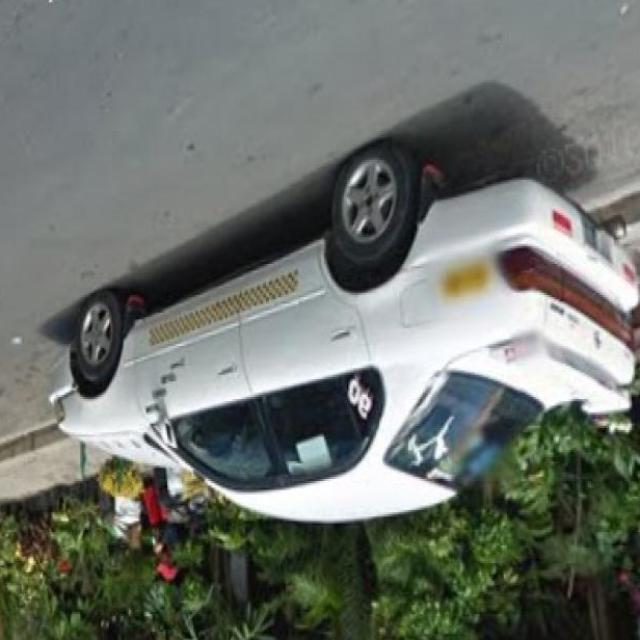car: (59, 139, 636, 547)
